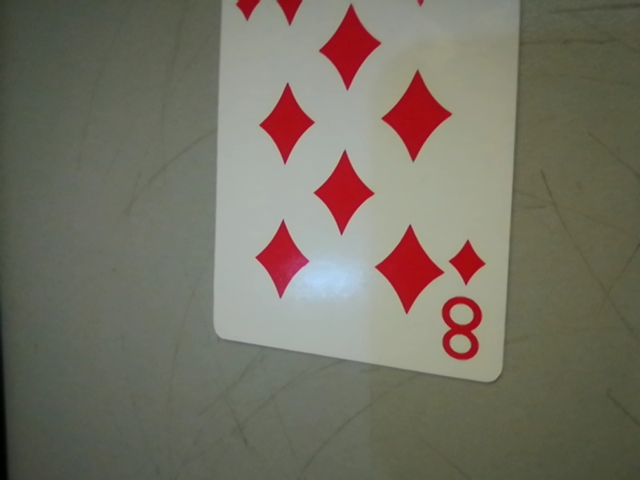fk 8: (430, 233, 498, 371)
